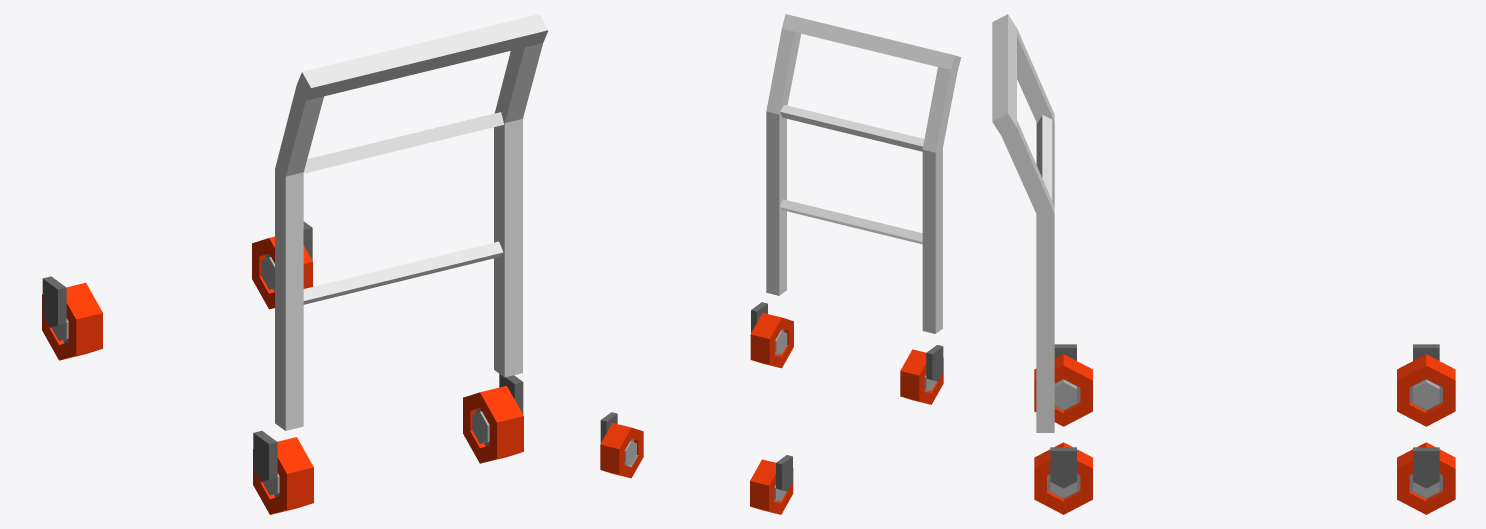
The model's file is Gurma.fbx.
3 views of the same model, side by side, from view 1: azimuth 30°, elevation 25°; view 2: azimuth 150°, elevation 25°; view 3: azimuth 270°, elevation 25° (orthographic). The views are drawn at different scales.
Parts seen in each view (by area): view 1: Cube.001; view 2: Cube.001; view 3: Cube.001.
Part boxes in pixels (x1=…): Cube.001: x1=42, y1=14, x2=548, y2=514; Cube.001: x1=600, y1=14, x2=961, y2=514; Cube.001: x1=992, y1=14, x2=1455, y2=514.
Bounding box in the file's own units: 60 × 97.71 × 106.
